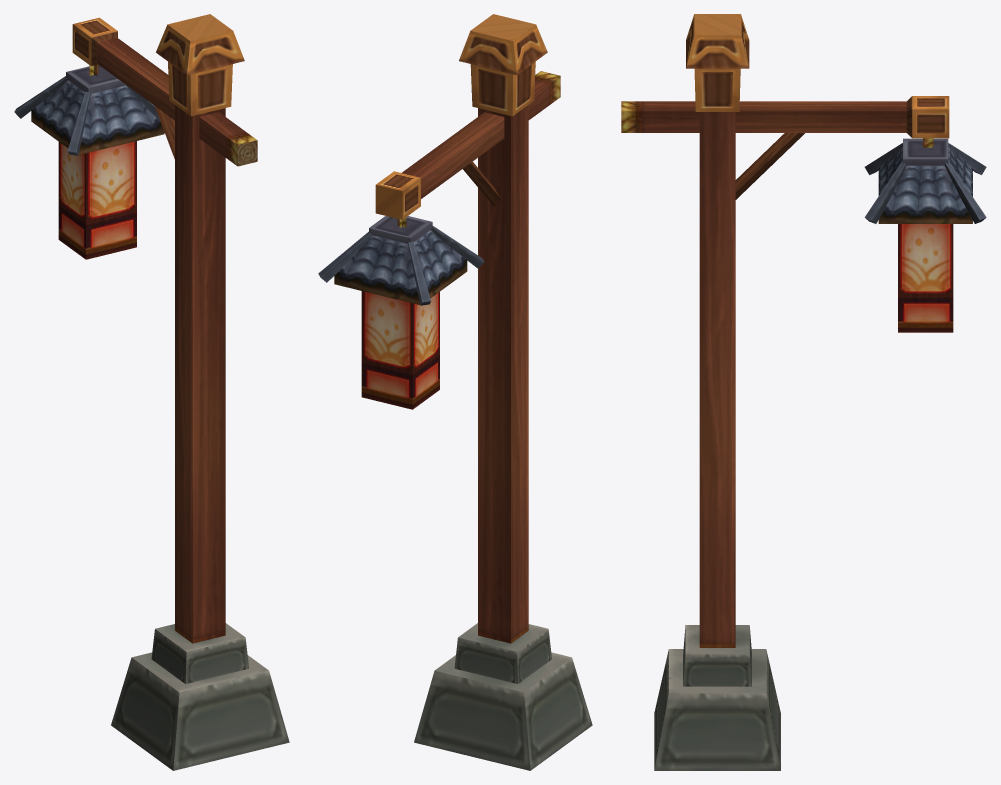
File: szc_object_13aludeng.FBX
The picture shows the model from 3 angles, left to right: view 1: azimuth 30°, elevation 25°; view 2: azimuth 150°, elevation 25°; view 3: azimuth 270°, elevation 25°; orthographic projection.
Parts seen in each view (by area): view 1: szc_object_13ludeng1; view 2: szc_object_13ludeng1; view 3: szc_object_13ludeng1.
Boxes of the visible parts, x1=… form: szc_object_13ludeng1: x1=14, y1=14, x2=289, y2=770; szc_object_13ludeng1: x1=318, y1=14, x2=592, y2=770; szc_object_13ludeng1: x1=621, y1=14, x2=986, y2=770.
Bounding box in the file's own units: 11.34 × 65.66 × 30.3.
